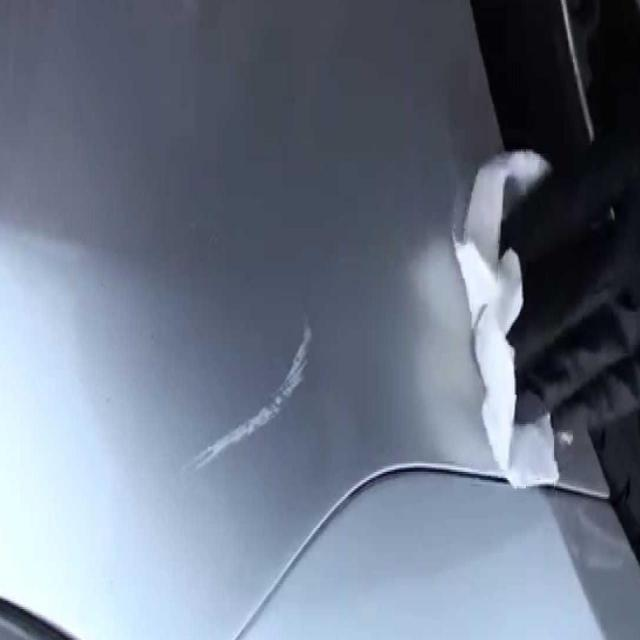scratch: (180, 316, 320, 488)
